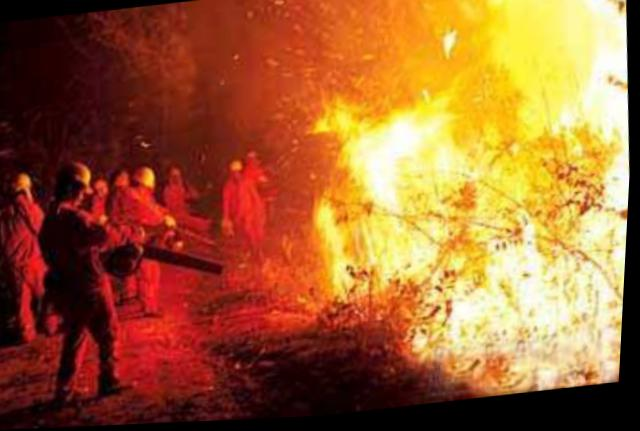fire: (296, 0, 639, 412)
